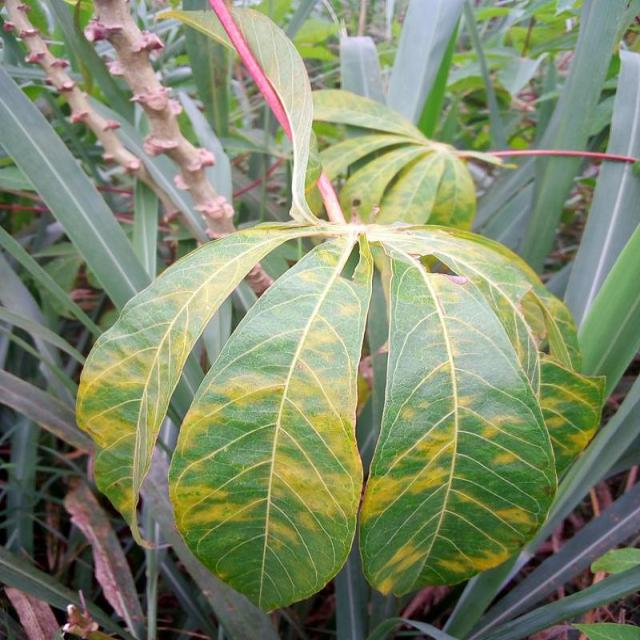cassava leaf: (73, 1, 610, 616), (357, 222, 605, 598), (166, 230, 374, 614), (74, 219, 314, 549)
